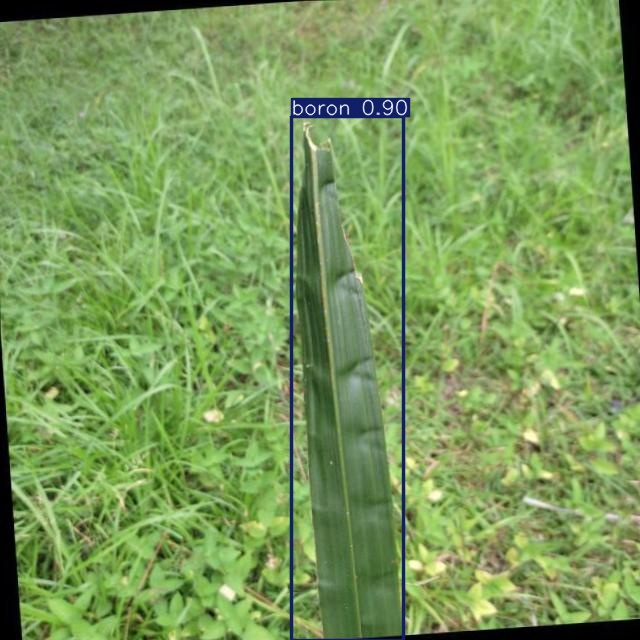nitrogen: (292, 116, 404, 640)
